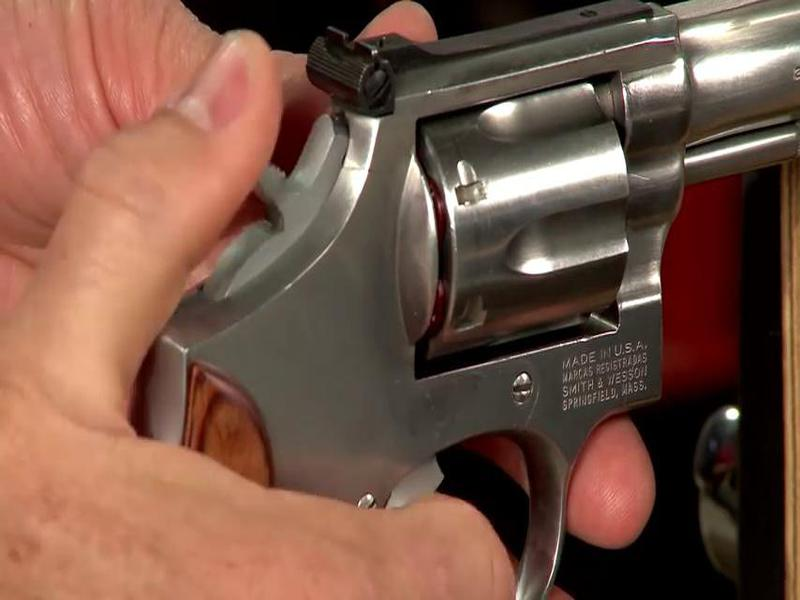Revolver: (152, 1, 800, 544)
